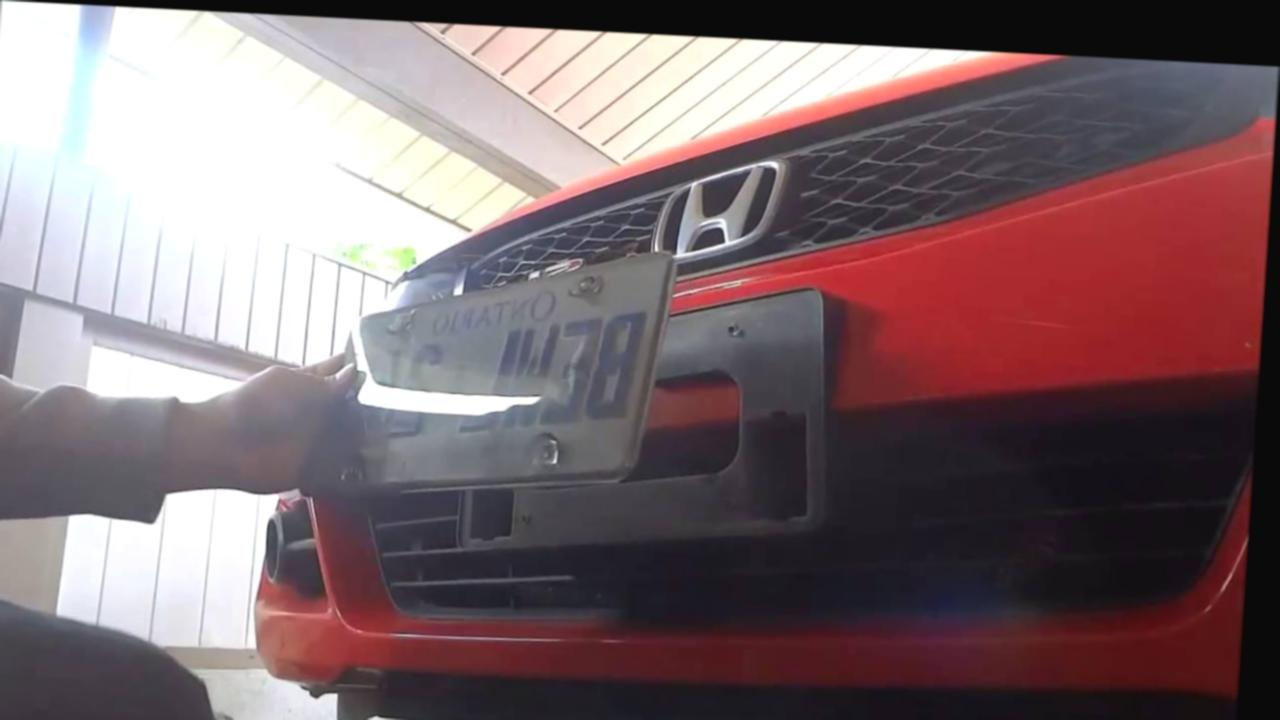License_Plate: (304, 215, 681, 523)
